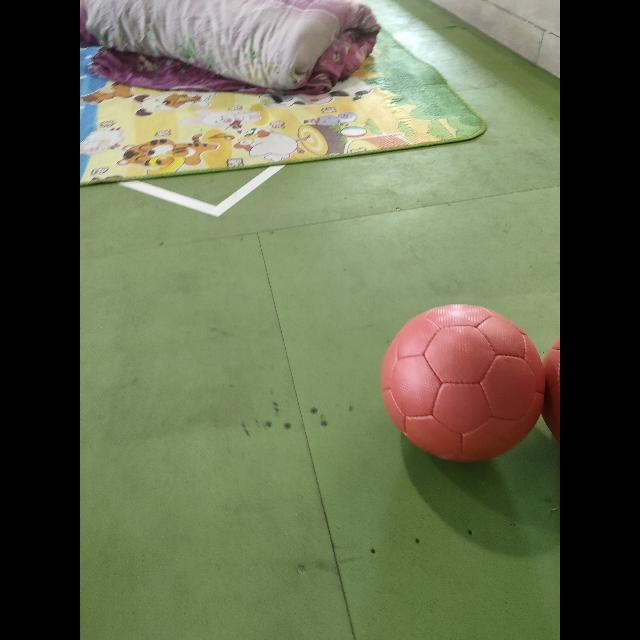R: (381, 304, 545, 462)
